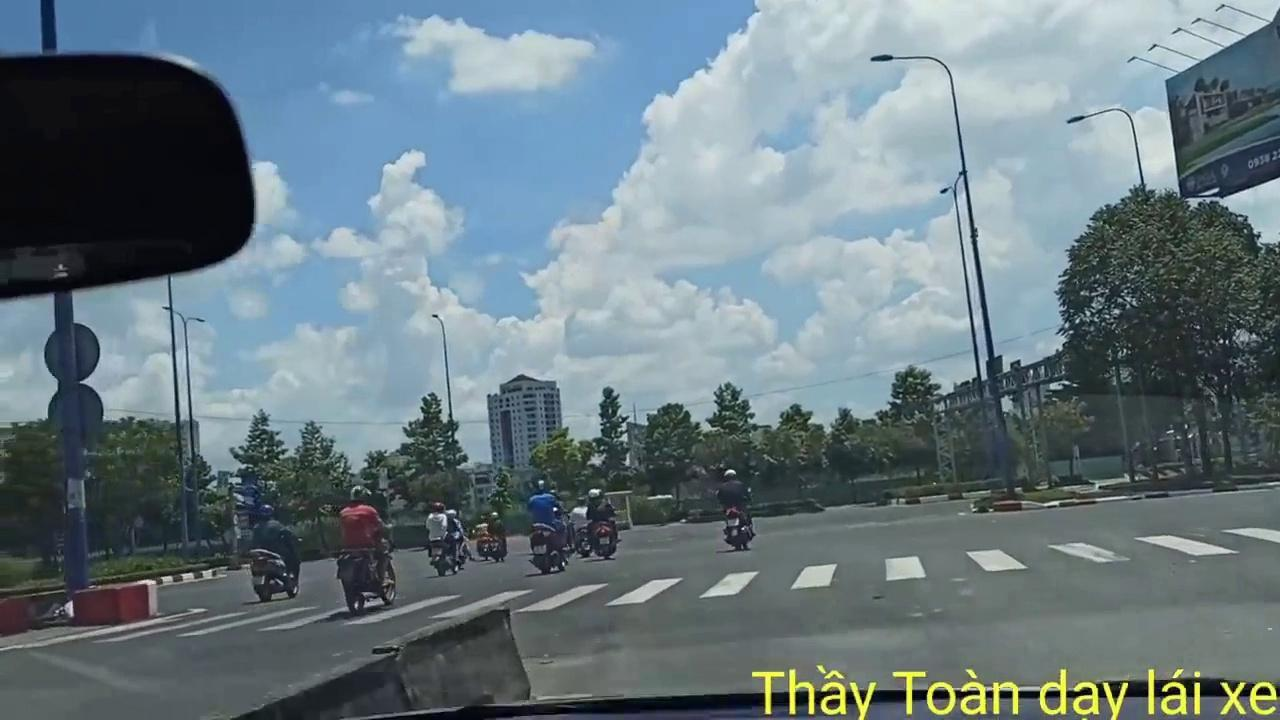Cấm cac phương tiện hoạt động trong khung giờ cố định: (217, 469, 230, 496)
